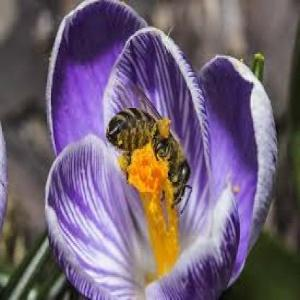Saffron: (46, 0, 278, 300)
